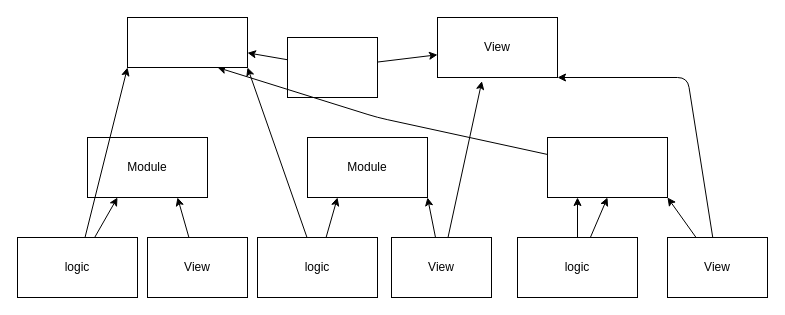
Image size: 785x315. Some labels were removed from this diagram. The shapes that lost their labels are listed below. From the top down, each one's centre as x and y in pixels, then its label:
point 187,42: usePresenter(logic)
point 332,67: Page
point 607,167: Shared Module
